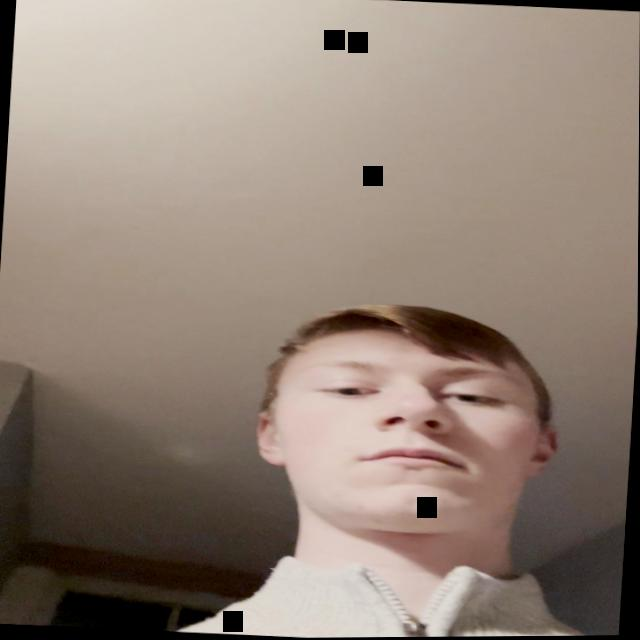NO-Mask: (244, 299, 569, 572)
